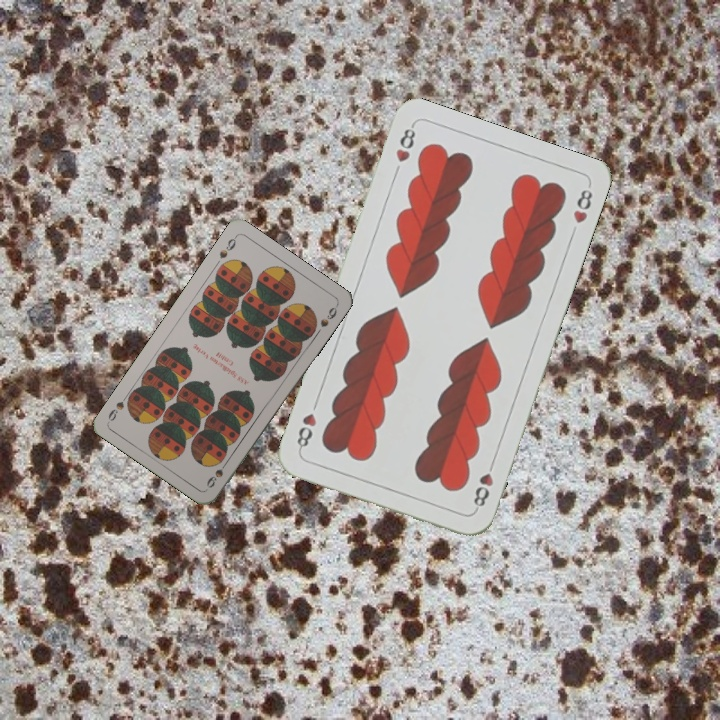H8: (469, 456, 497, 513), (391, 121, 418, 165)
S9: (202, 455, 231, 491), (215, 232, 239, 261)
